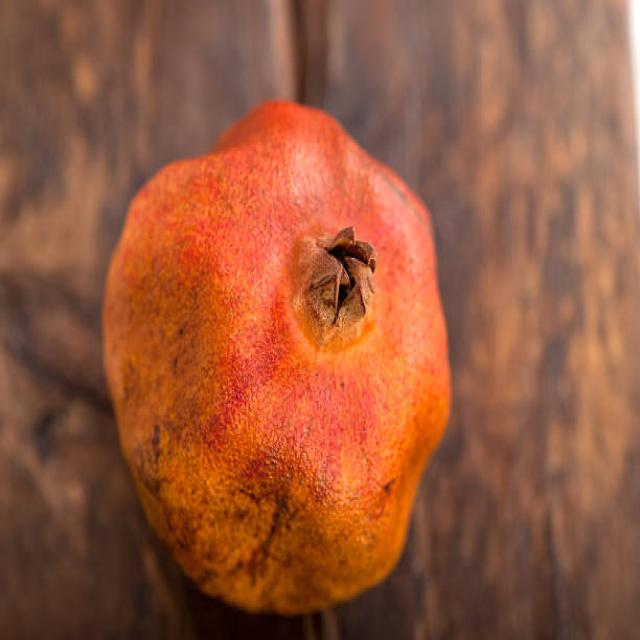overripe: (98, 96, 452, 617)
